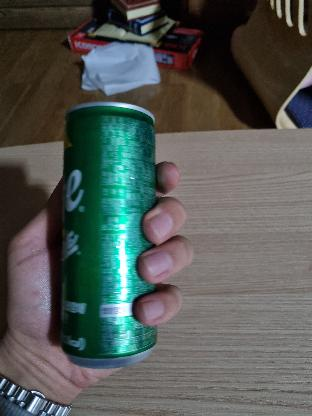Can: (46, 96, 174, 400)
